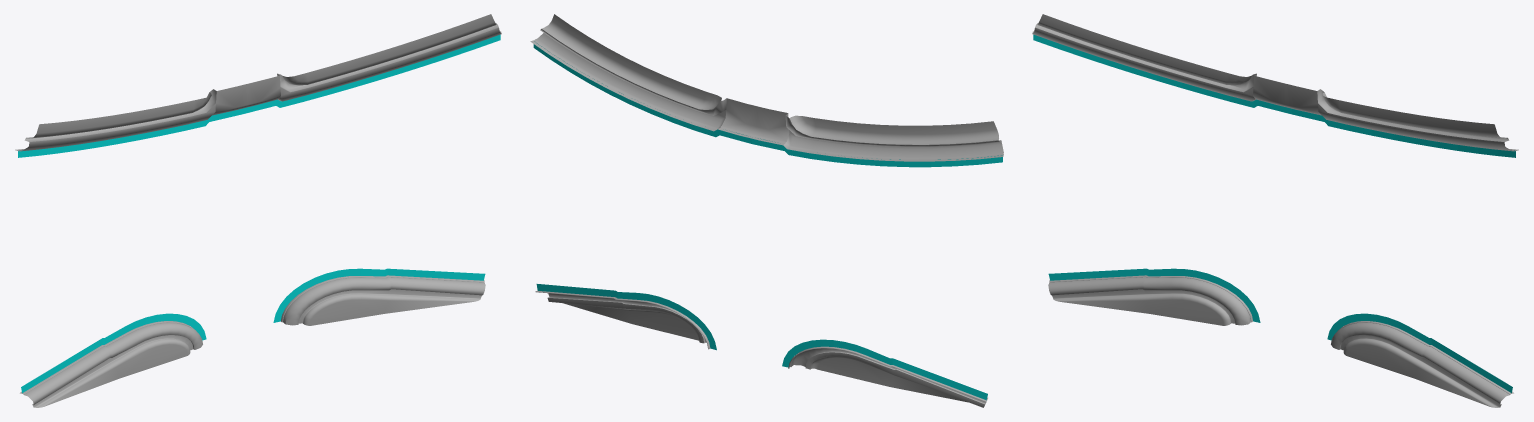
The model's file is Helmet.fbx.
3 views of the same model, side by side, from view 1: azimuth 30°, elevation 25°; view 2: azimuth 150°, elevation 25°; view 3: azimuth 330°, elevation 25° (orthographic). The views are drawn at different scales.
Visible parts, largest first — view 1: Helmet_Top_Low, Helmet_Bottom_Right_Low, Helmet_Bottom_Left_Low, Glow_Right (×2), Glow_Top; view 2: Helmet_Top_Low, Helmet_Bottom_Left_Low, Helmet_Bottom_Right_Low, Glow_Right (×2), Glow_Top; view 3: Helmet_Top_Low, Helmet_Bottom_Left_Low, Helmet_Bottom_Right_Low, Glow_Right (×2), Glow_Top.
Boxes of the visible parts, x1,y1,x2,y2 form: Helmet_Top_Low: [15, 14, 501, 151]; Helmet_Bottom_Right_Low: [281, 275, 485, 325]; Helmet_Bottom_Left_Low: [20, 321, 202, 407]; Glow_Right (×2): [21, 268, 485, 393]; Glow_Top: [18, 34, 500, 157]; Helmet_Top_Low: [530, 14, 1003, 161]; Helmet_Bottom_Left_Low: [788, 346, 987, 407]; Helmet_Bottom_Right_Low: [535, 290, 710, 349]; Glow_Right (×2): [536, 284, 987, 400]; Glow_Top: [533, 41, 1002, 167]; Helmet_Top_Low: [1032, 14, 1518, 151]; Helmet_Bottom_Left_Low: [1048, 275, 1252, 325]; Helmet_Bottom_Right_Low: [1331, 321, 1513, 407]; Glow_Right (×2): [1048, 268, 1512, 393]; Glow_Top: [1033, 34, 1515, 157].
Bounding box in the file's own units: 0.432 × 0.2456 × 0.0409.
